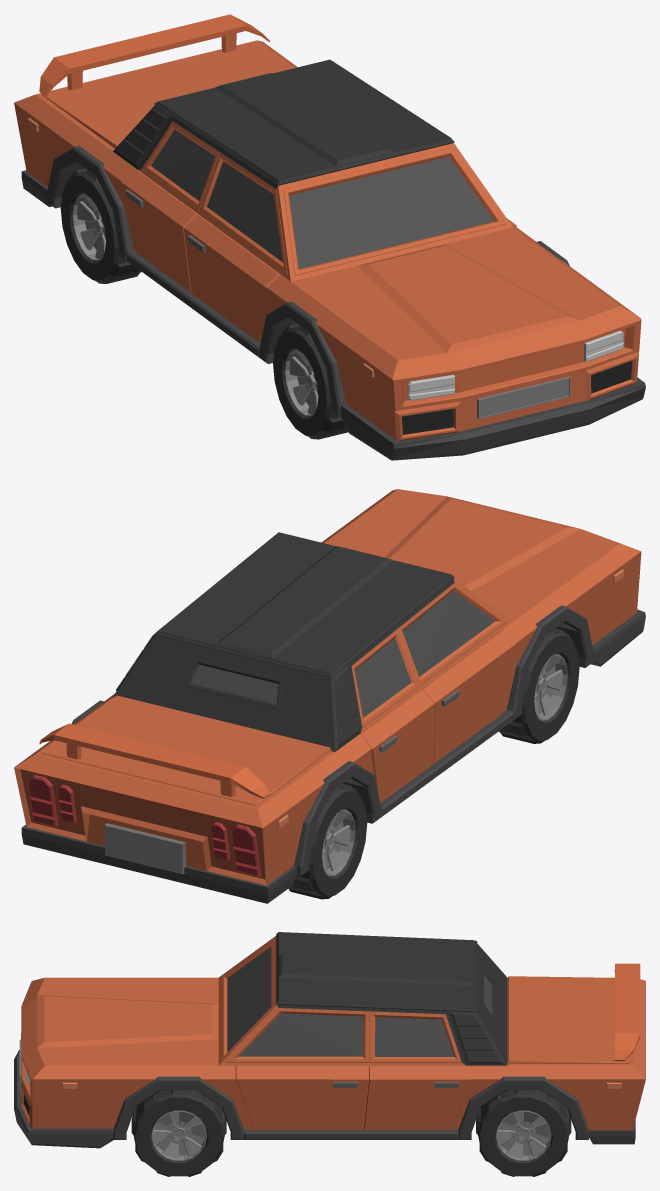
The model's file is taxi.glb.
3 renders of one model, top to bottom at view 1: azimuth 30°, elevation 25°; view 2: azimuth 150°, elevation 25°; view 3: azimuth 270°, elevation 25°, orthographic. The views are drawn at different scales.
Parts seen in each view (by area): view 1: body, wheel_rear_L, wheel_front_L; view 2: body, wheel_rear_L, wheel_front_L; view 3: body, wheel_front_R, wheel_rear_R.
Boxes of the visible parts, <box> form: body: <box>14,14,645,460</box>; wheel_rear_L: <box>60,168,141,283</box>; wheel_front_L: <box>273,324,348,439</box>; body: <box>14,489,645,903</box>; wheel_rear_L: <box>288,784,367,899</box>; wheel_front_L: <box>499,628,579,743</box>; body: <box>14,932,645,1148</box>; wheel_front_R: <box>131,1090,226,1176</box>; wheel_rear_R: <box>476,1090,571,1176</box>.
Size of the model in its own units: 1.9 by 1.44 by 4.98.
1 material, 1 textured.
